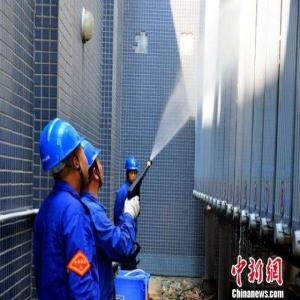blue: (39, 117, 90, 201), (81, 139, 106, 193), (125, 156, 140, 186)
